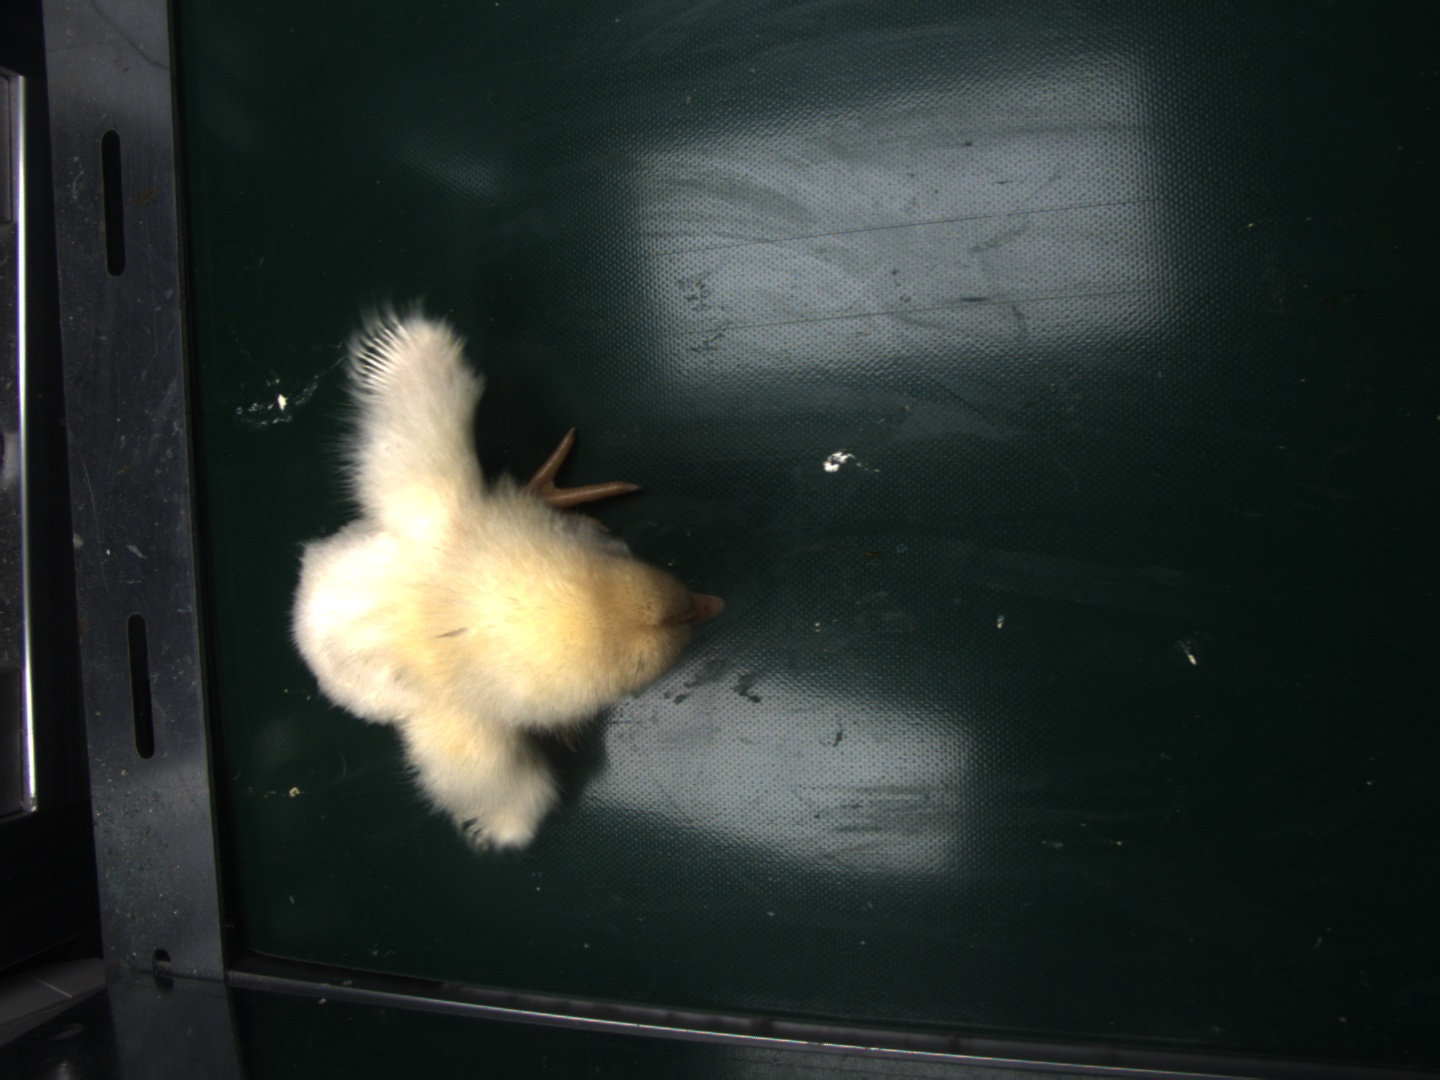male: (354, 320, 414, 393)
